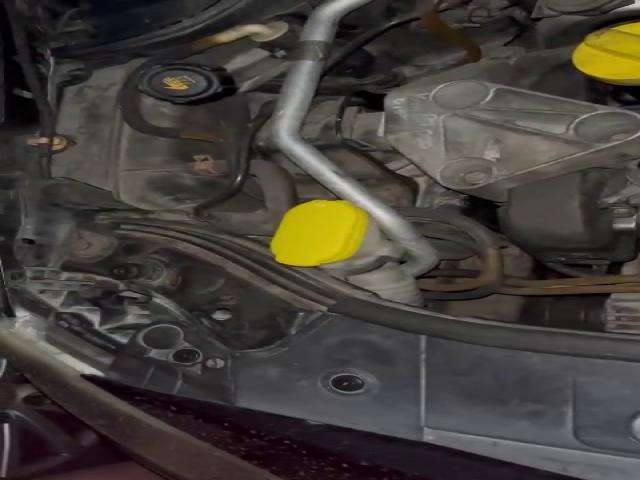antifreeze_tank: (51, 60, 250, 210)
